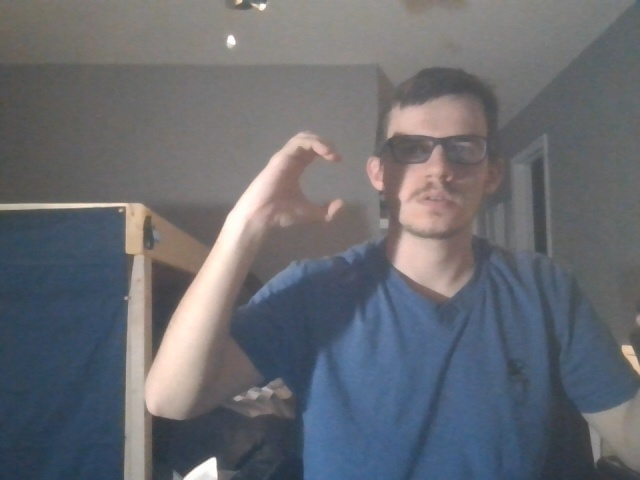C: (246, 126, 361, 241)
